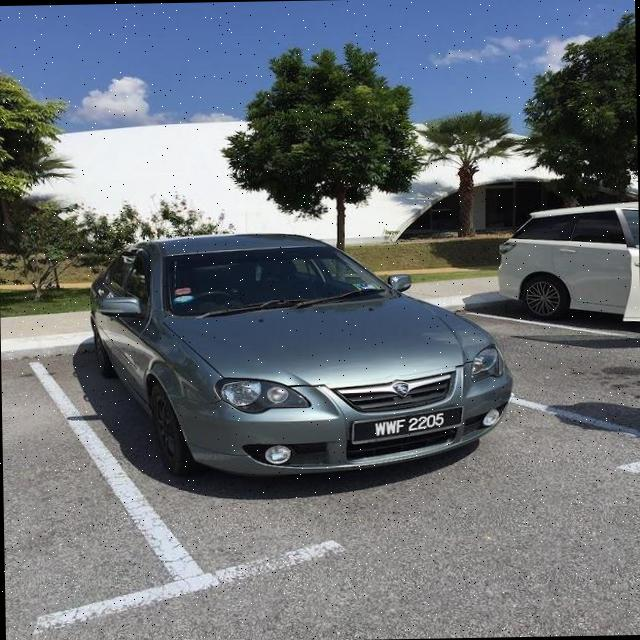License_Plate: (347, 403, 476, 443)
car: (72, 226, 522, 501)
